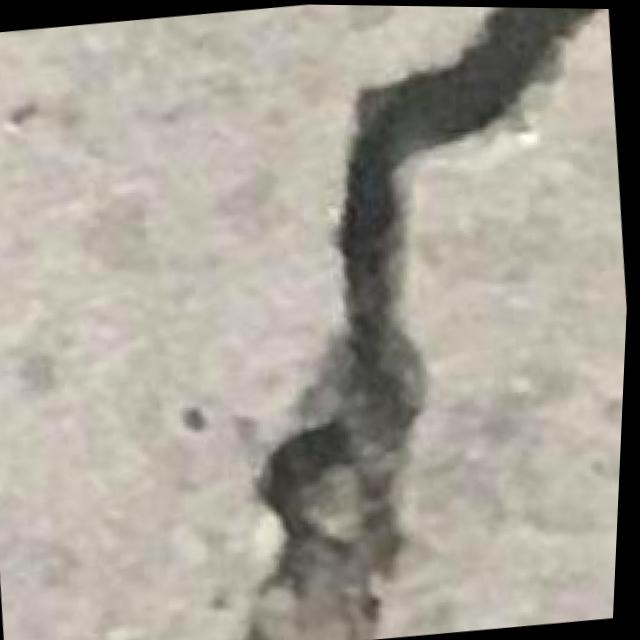Crack: (197, 3, 640, 640)
